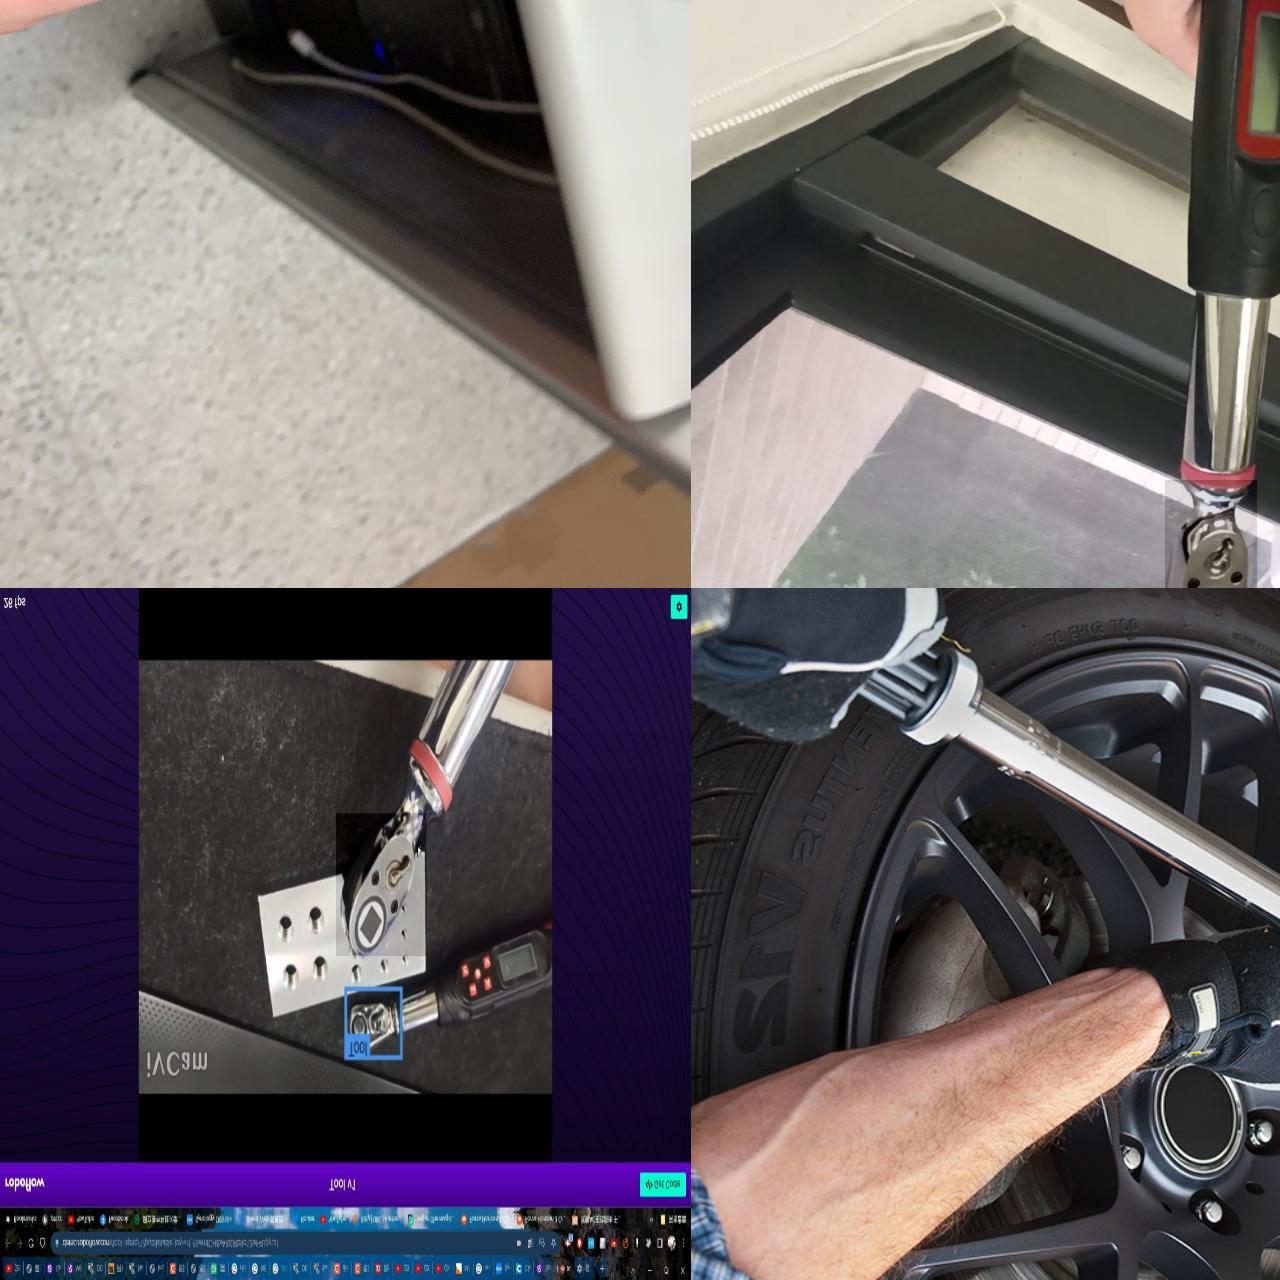Tool: (335, 813, 427, 956), (1165, 481, 1257, 588)
